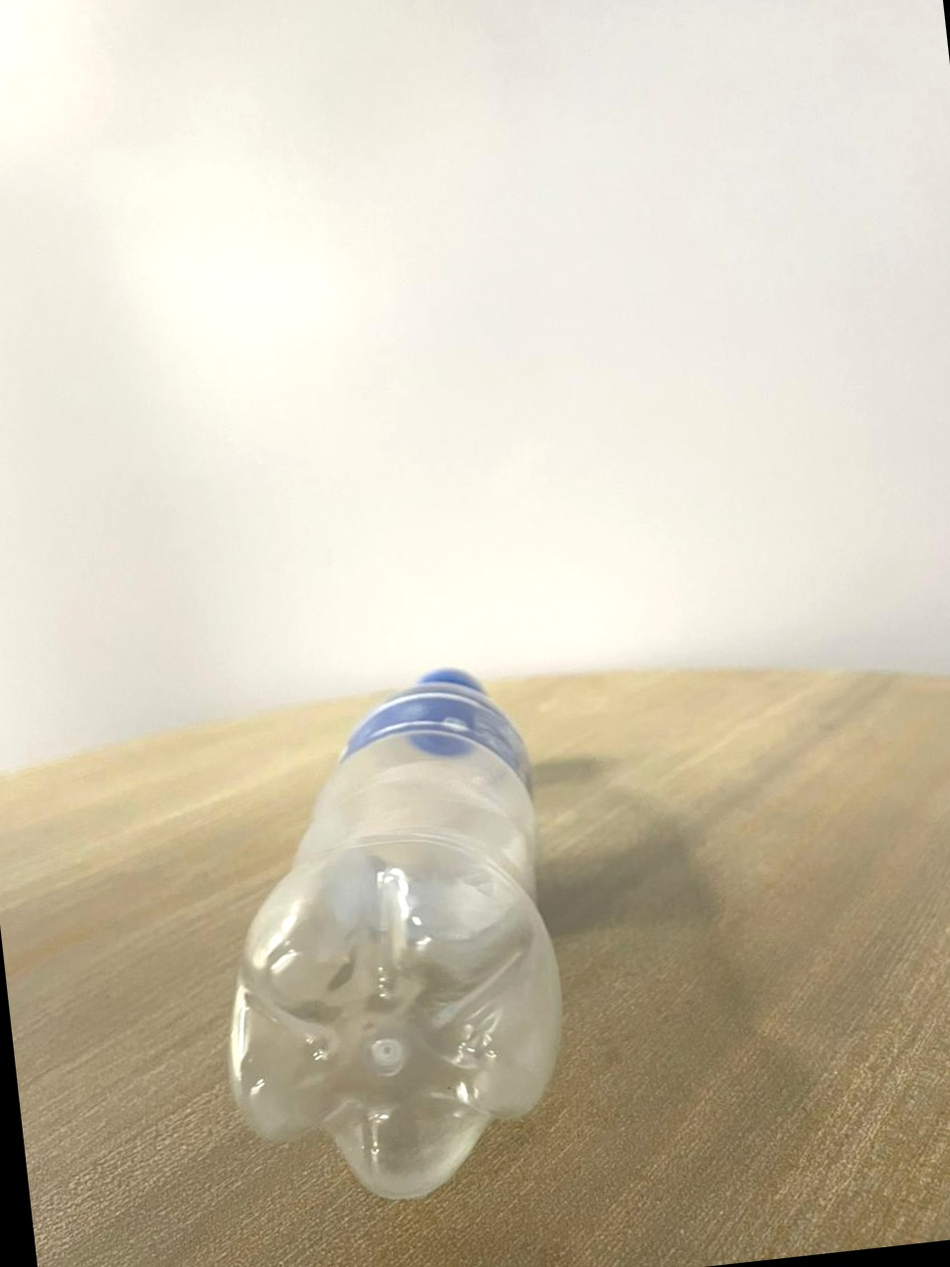Pepsi Bottle: (195, 631, 594, 1236), (190, 634, 588, 1222)
